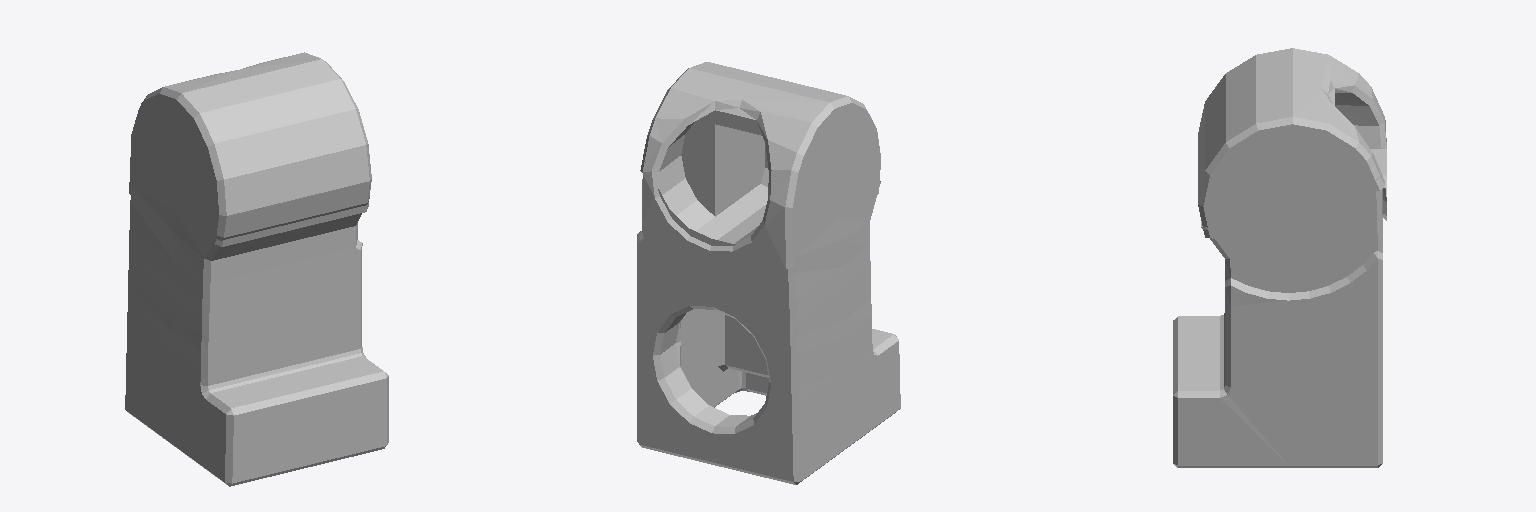
The model's file is SantaRightLeg.obj.
3 views of the same model, side by side, from view 1: azimuth 30°, elevation 25°; view 2: azimuth 150°, elevation 25°; view 3: azimuth 270°, elevation 25° (orthographic).
Visible parts, largest first — view 1: Mesh_0142.015_Mesh_0142Mesh.001; view 2: Mesh_0142.015_Mesh_0142Mesh.001; view 3: Mesh_0142.015_Mesh_0142Mesh.001.
Boxes of the visible parts, x1,y1,x2,y2 form: Mesh_0142.015_Mesh_0142Mesh.001: [125, 52, 388, 486]; Mesh_0142.015_Mesh_0142Mesh.001: [637, 62, 900, 484]; Mesh_0142.015_Mesh_0142Mesh.001: [1173, 48, 1386, 467].
Size of the model in its own units: 0.0686 by 0.1397 by 0.0776.